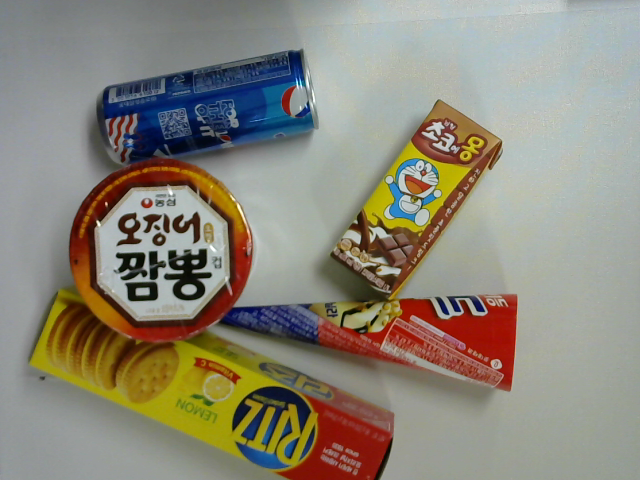Choco_E_Mong: (328, 92, 510, 302)
Ojjam: (67, 154, 258, 344)
Pepsi_Cola_Can_250ml: (90, 46, 326, 168)
Ritz_Remon_96g: (25, 287, 402, 480)
World_Cone_Banila: (180, 289, 525, 396)
